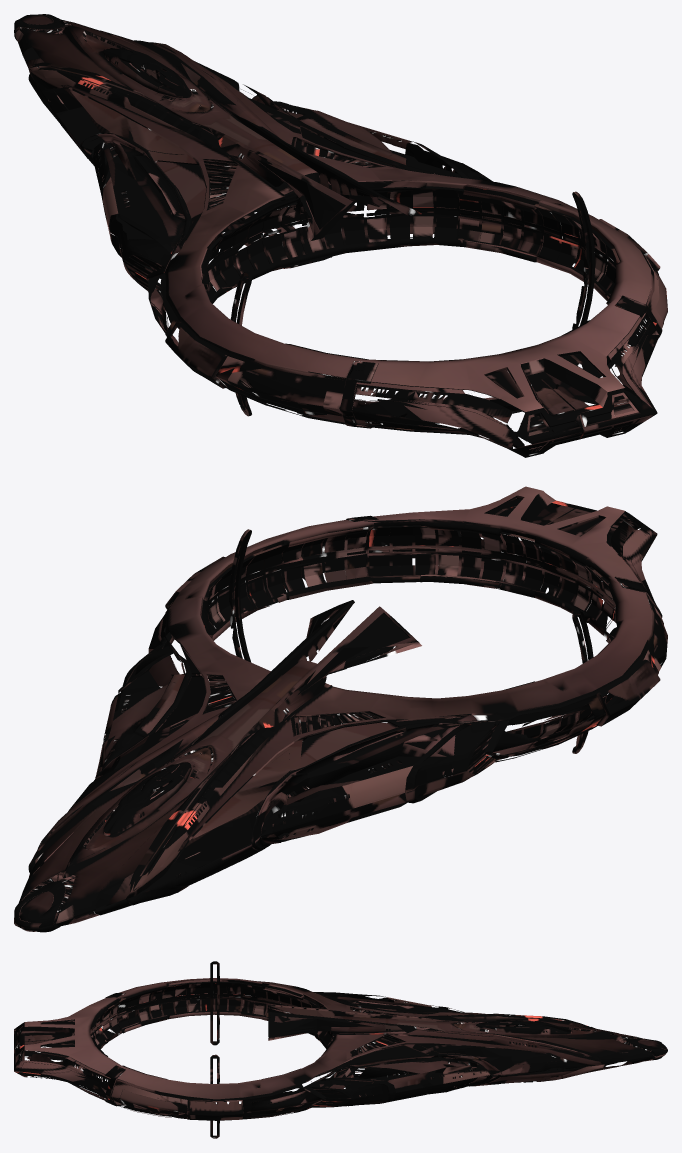
File: spacestation8.obj
3 renders of one model, top to bottom at view 1: azimuth 30°, elevation 25°; view 2: azimuth 150°, elevation 25°; view 3: azimuth 270°, elevation 25°, orthographic. The views are drawn at different scales.
Parts seen in each view (by area): view 1: Circle.025; view 2: Circle.025; view 3: Circle.025.
Part boxes in pixels (x1,y1,x2,y2): Circle.025: [14, 14, 667, 457]; Circle.025: [14, 486, 667, 932]; Circle.025: [14, 961, 667, 1138].
Size of the model in its own units: 3 by 0.8966 by 6.36.
1 material, 1 textured.
